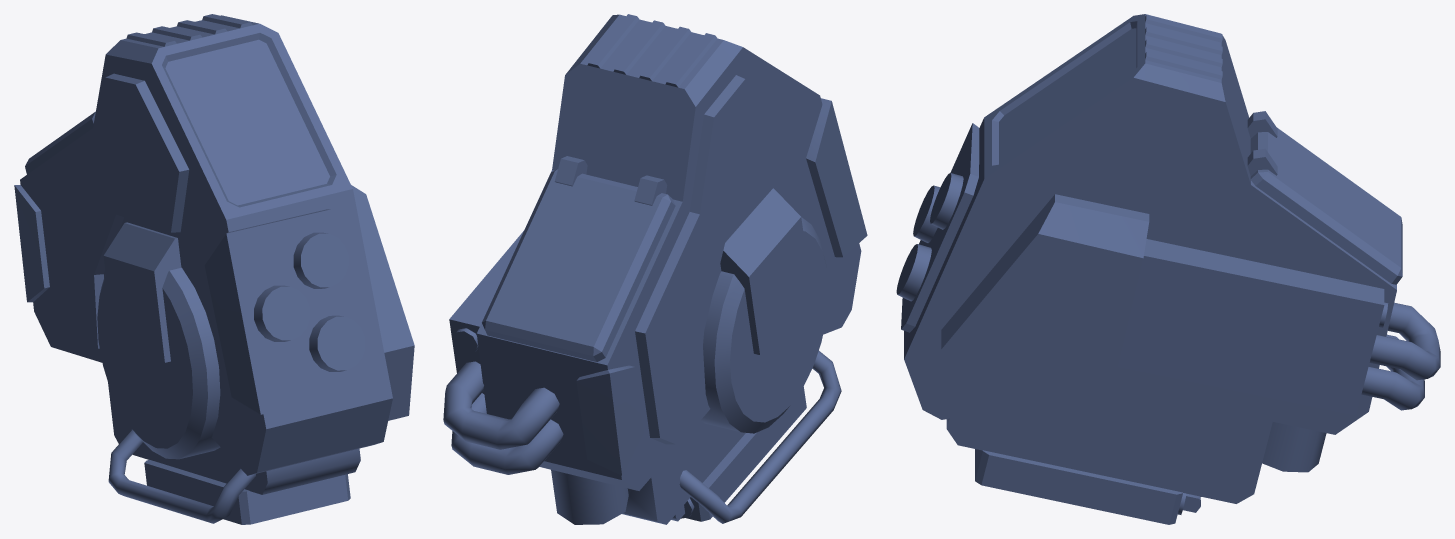
Rendered from Missile_hive_v2_R.FBX.
The picture shows the model from 3 angles, left to right: view 1: azimuth 30°, elevation 25°; view 2: azimuth 150°, elevation 25°; view 3: azimuth 270°, elevation 25°; orthographic projection. The views are drawn at different scales.
Visible parts, largest first — view 1: Missile_hive_v2_R; view 2: Missile_hive_v2_R; view 3: Missile_hive_v2_R.
Part boxes in pixels (left/top/right/bottom): Missile_hive_v2_R: left=14, top=14, right=414, bottom=524; Missile_hive_v2_R: left=443, top=14, right=867, bottom=524; Missile_hive_v2_R: left=896, top=14, right=1440, bottom=524.
Bounding box in the file's own units: 1.37 × 3.12 × 3.33.
